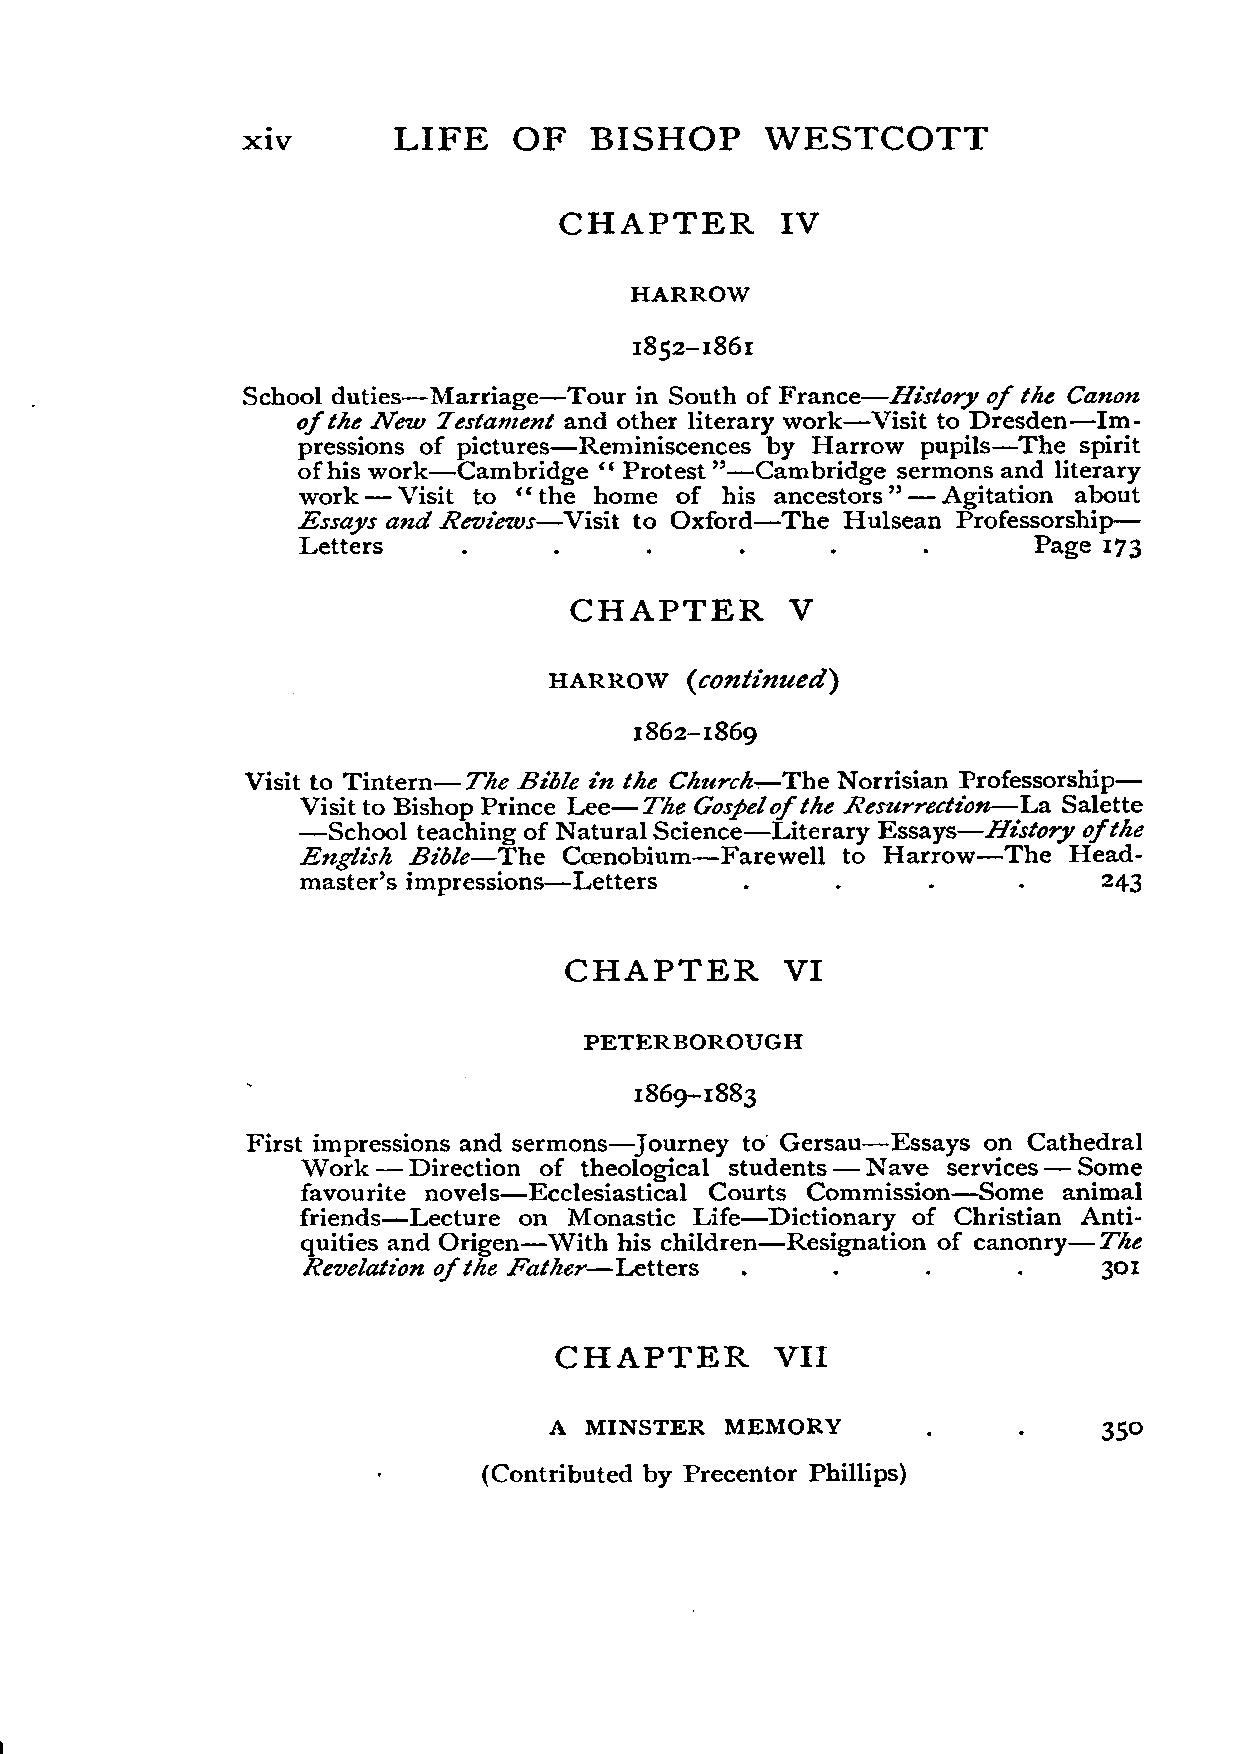TOC_chapter: (234, 374, 1145, 561), (250, 1122, 1151, 1286), (242, 761, 1143, 900), (471, 1333, 915, 1492), (544, 582, 841, 747), (546, 192, 827, 362), (565, 951, 832, 1117)
TOC_pagenumber: (1098, 1404, 1146, 1457), (1095, 866, 1145, 902), (1098, 535, 1146, 568), (1102, 1257, 1143, 1279)
chapter: (386, 113, 990, 158)
